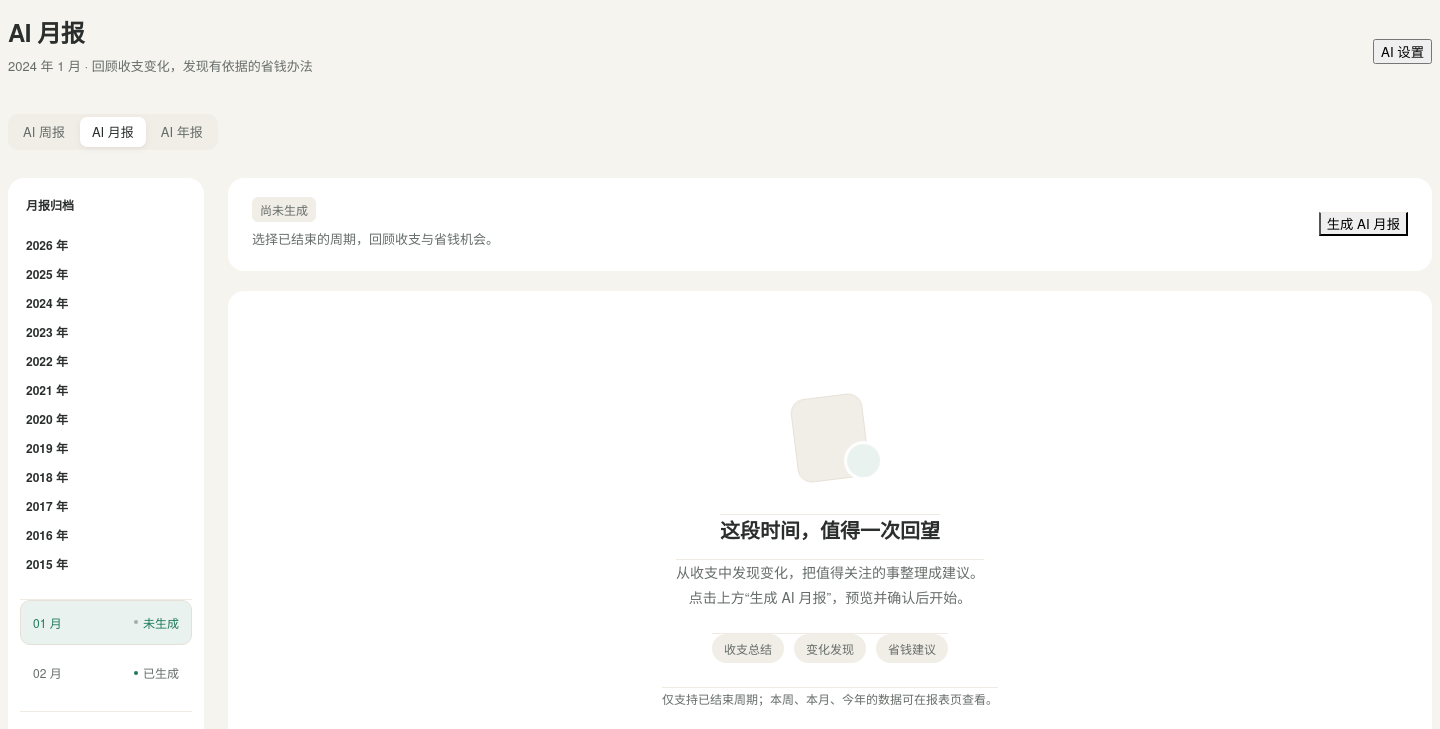
Scenario: 月报手动同步生成 › 月份切换丢弃迟到预览
The image size is (1440, 729).
What coordinates should you click on to do the following:
click the button "生成 AI 月报"
I would click on:
 (1363, 224)
Its box is [1319,212,1408,236].
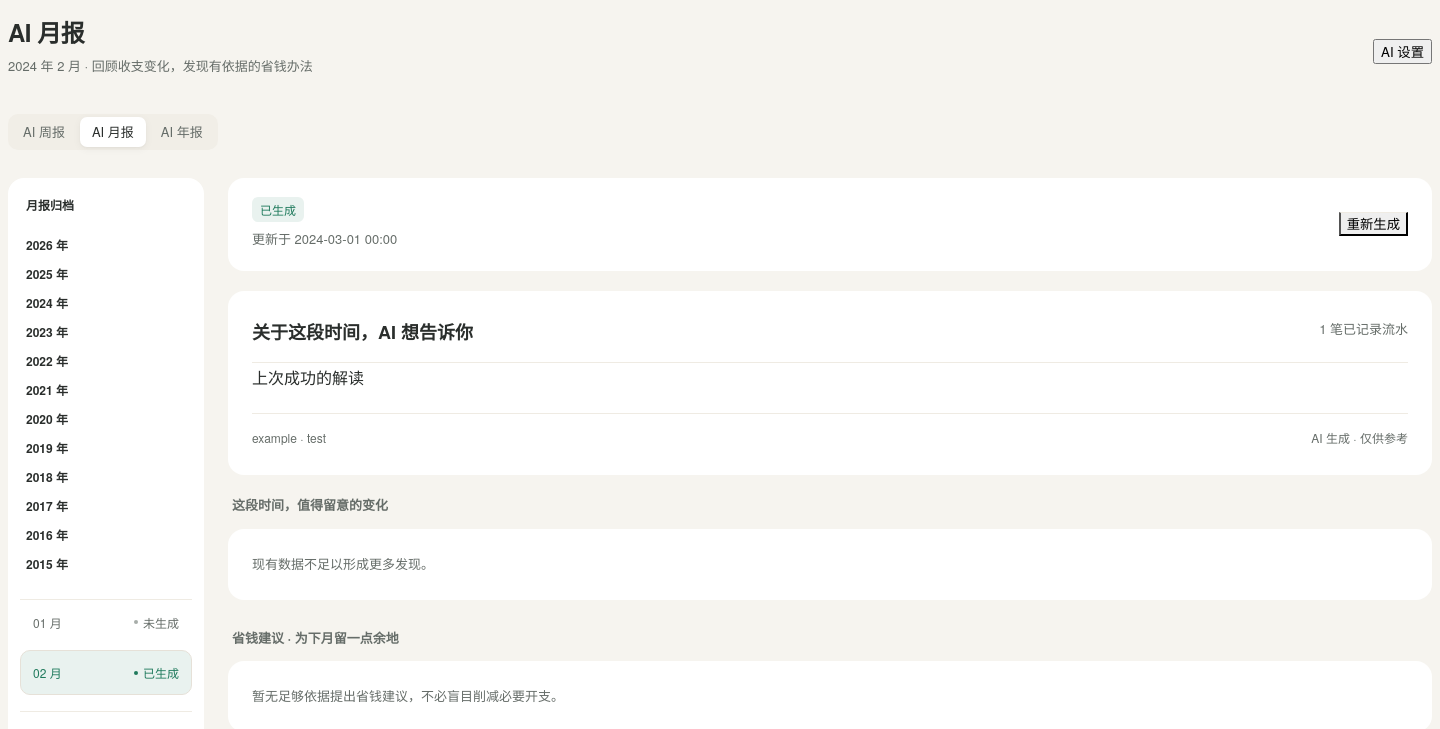
Now the text "2024 年 2 月" is shown, box [8,56,313,75]
